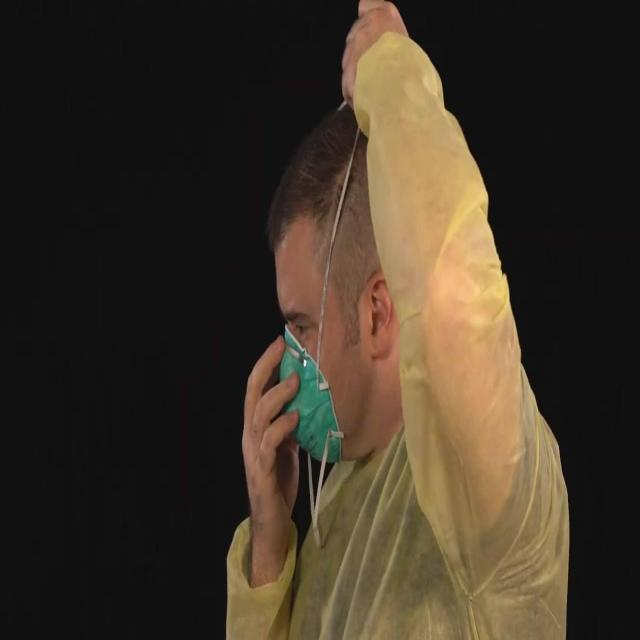Coverall: (207, 92, 549, 640)
Mask: (264, 326, 344, 474)
